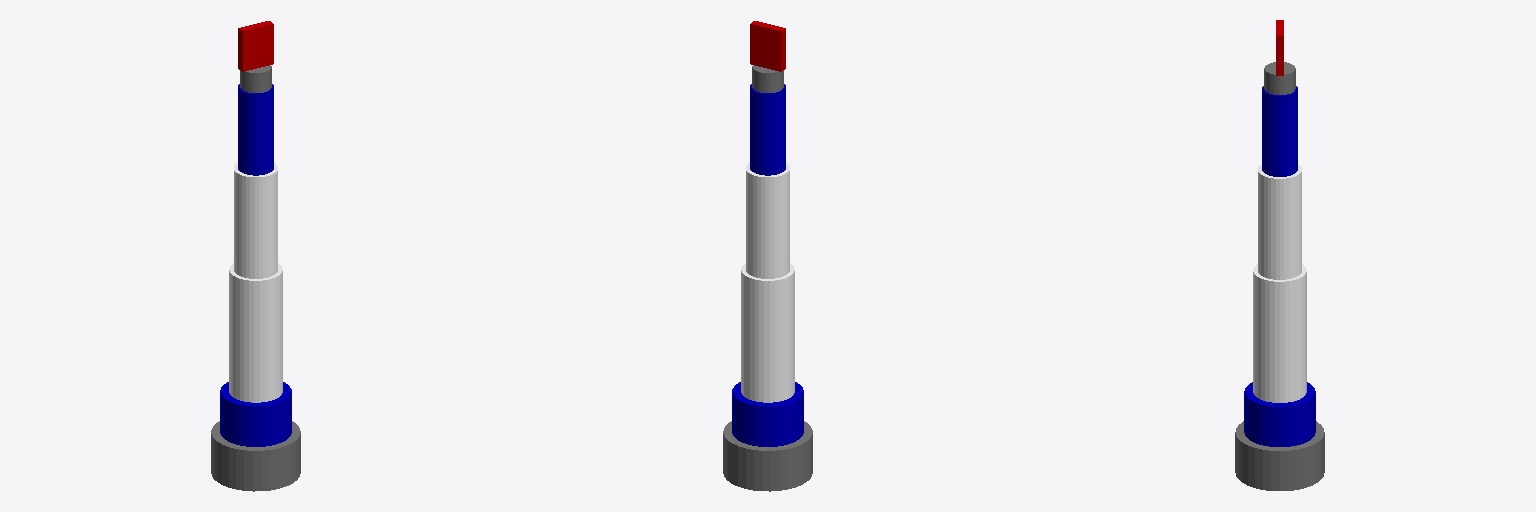
The robot description file, URDF, robot "chess_robot":
<?xml version="1.0"?>
<robot name="chess_robot">
  
  <!-- Materials -->
  <material name="blue">
    <color rgba="0.0 0.0 0.8 1.0"/>
  </material>
  
  <material name="red">
    <color rgba="0.8 0.0 0.0 1.0"/>
  </material>
  
  <material name="white">
    <color rgba="1.0 1.0 1.0 1.0"/>
  </material>
  
  <material name="grey">
    <color rgba="0.5 0.5 0.5 1.0"/>
  </material>
  
  <!-- World link -->
  <link name="world"/>
  
  <!-- Base link -->
  <joint name="world_to_base" type="fixed">
    <parent link="world"/>
    <child link="robot_base"/>
    <origin xyz="0 0 0" rpy="0 0 0"/>
  </joint>
  
  <link name="robot_base">
    <visual>
      <origin xyz="0 0 0.05" rpy="0 0 0"/>
      <geometry>
        <cylinder radius="0.1" length="0.1"/>
      </geometry>
      <material name="grey"/>
    </visual>
    <collision>
      <origin xyz="0 0 0.05" rpy="0 0 0"/>
      <geometry>
        <cylinder radius="0.1" length="0.1"/>
      </geometry>
    </collision>
  </link>
  
  <!-- Shoulder pan joint -->
  <joint name="shoulder_pan_joint" type="revolute">
    <parent link="robot_base"/>
    <child link="shoulder_link"/>
    <origin xyz="0 0 0.1" rpy="0 0 0"/>
    <axis xyz="0 0 1"/>
    <limit lower="-3.14" upper="3.14" effort="100" velocity="1.0"/>
  </joint>
  
  <link name="shoulder_link">
    <visual>
      <origin xyz="0 0 0.05" rpy="0 0 0"/>
      <geometry>
        <cylinder radius="0.08" length="0.1"/>
      </geometry>
      <material name="blue"/>
    </visual>
    <collision>
      <origin xyz="0 0 0.05" rpy="0 0 0"/>
      <geometry>
        <cylinder radius="0.08" length="0.1"/>
      </geometry>
    </collision>
  </link>
  
  <!-- Shoulder lift joint -->
  <joint name="shoulder_lift_joint" type="revolute">
    <parent link="shoulder_link"/>
    <child link="upper_arm_link"/>
    <origin xyz="0 0 0.1" rpy="0 0 0"/>
    <axis xyz="0 1 0"/>
    <limit lower="-3.14" upper="0" effort="100" velocity="1.0"/>
  </joint>
  
  <link name="upper_arm_link">
    <visual>
      <origin xyz="0 0 0.15" rpy="0 0 0"/>
      <geometry>
        <cylinder radius="0.06" length="0.3"/>
      </geometry>
      <material name="white"/>
    </visual>
    <collision>
      <origin xyz="0 0 0.15" rpy="0 0 0"/>
      <geometry>
        <cylinder radius="0.06" length="0.3"/>
      </geometry>
    </collision>
  </link>
  
  <!-- Elbow joint -->
  <joint name="elbow_joint" type="revolute">
    <parent link="upper_arm_link"/>
    <child link="forearm_link"/>
    <origin xyz="0 0 0.3" rpy="0 0 0"/>
    <axis xyz="0 1 0"/>
    <limit lower="-3.14" upper="0" effort="100" velocity="1.0"/>
  </joint>
  
  <link name="forearm_link">
    <visual>
      <origin xyz="0 0 0.125" rpy="0 0 0"/>
      <geometry>
        <cylinder radius="0.05" length="0.25"/>
      </geometry>
      <material name="white"/>
    </visual>
    <collision>
      <origin xyz="0 0 0.125" rpy="0 0 0"/>
      <geometry>
        <cylinder radius="0.05" length="0.25"/>
      </geometry>
    </collision>
  </link>
  
  <!-- Wrist 1 joint -->
  <joint name="wrist_1_joint" type="revolute">
    <parent link="forearm_link"/>
    <child link="wrist_1_link"/>
    <origin xyz="0 0 0.25" rpy="0 0 0"/>
    <axis xyz="0 1 0"/>
    <limit lower="-3.14" upper="3.14" effort="50" velocity="2.0"/>
  </joint>
  
  <link name="wrist_1_link">
    <visual>
      <origin xyz="0 0 0.05" rpy="0 0 0"/>
      <geometry>
        <cylinder radius="0.04" length="0.1"/>
      </geometry>
      <material name="blue"/>
    </visual>
    <collision>
      <origin xyz="0 0 0.05" rpy="0 0 0"/>
      <geometry>
        <cylinder radius="0.04" length="0.1"/>
      </geometry>
    </collision>
  </link>
  
  <!-- Wrist 2 joint -->
  <joint name="wrist_2_joint" type="revolute">
    <parent link="wrist_1_link"/>
    <child link="wrist_2_link"/>
    <origin xyz="0 0 0.1" rpy="0 0 0"/>
    <axis xyz="0 0 1"/>
    <limit lower="-3.14" upper="3.14" effort="50" velocity="2.0"/>
  </joint>
  
  <link name="wrist_2_link">
    <visual>
      <origin xyz="0 0 0.05" rpy="0 0 0"/>
      <geometry>
        <cylinder radius="0.04" length="0.1"/>
      </geometry>
      <material name="blue"/>
    </visual>
    <collision>
      <origin xyz="0 0 0.05" rpy="0 0 0"/>
      <geometry>
        <cylinder radius="0.04" length="0.1"/>
      </geometry>
    </collision>
  </link>
  
  <!-- Wrist 3 joint -->
  <joint name="wrist_3_joint" type="revolute">
    <parent link="wrist_2_link"/>
    <child link="wrist_3_link"/>
    <origin xyz="0 0 0.1" rpy="0 0 0"/>
    <axis xyz="1 0 0"/>
    <limit lower="-3.14" upper="3.14" effort="50" velocity="2.0"/>
  </joint>
  
  <link name="wrist_3_link">
    <visual>
      <origin xyz="0 0 0.025" rpy="0 0 0"/>
      <geometry>
        <cylinder radius="0.035" length="0.05"/>
      </geometry>
      <material name="grey"/>
    </visual>
    <collision>
      <origin xyz="0 0 0.025" rpy="0 0 0"/>
      <geometry>
        <cylinder radius="0.035" length="0.05"/>
      </geometry>
    </collision>
  </link>
  
  <!-- End effector -->
  <joint name="ee_joint" type="fixed">
    <parent link="wrist_3_link"/>
    <child link="ee_link"/>
    <origin xyz="0 0 0.05" rpy="0 0 0"/>
  </joint>
  
  <link name="ee_link">
    <visual>
      <origin xyz="0 0 0.05" rpy="0 0 0"/>
      <geometry>
        <box size="0.08 0.02 0.1"/>
      </geometry>
      <material name="red"/>
    </visual>
    <collision>
      <origin xyz="0 0 0.05" rpy="0 0 0"/>
      <geometry>
        <box size="0.08 0.02 0.1"/>
      </geometry>
    </collision>
  </link>
  
</robot>

--- Facts derived from the render (not from the file) ---
Views: 3 orthographic renders of the robot side by side, from view 1: azimuth 30°, elevation 25°; view 2: azimuth 150°, elevation 25°; view 3: azimuth 270°, elevation 25°.
Robot: chess_robot — 9 links, 8 joints (6 revolute, 2 fixed); root link world; default pose: all joints at 0.
Visible links, largest first — view 1: upper_arm_link, forearm_link, robot_base, shoulder_link, ee_link, wrist_2_link, wrist_1_link, wrist_3_link; view 2: upper_arm_link, forearm_link, robot_base, shoulder_link, ee_link, wrist_2_link, wrist_1_link, wrist_3_link; view 3: upper_arm_link, forearm_link, robot_base, shoulder_link, wrist_2_link, wrist_1_link, wrist_3_link.
Boxes of the visible links, x1=… form: upper_arm_link: x1=229, y1=263, x2=282, y2=402; forearm_link: x1=234, y1=163, x2=277, y2=278; robot_base: x1=211, y1=421, x2=300, y2=491; shoulder_link: x1=220, y1=382, x2=291, y2=446; ee_link: x1=238, y1=21, x2=273, y2=71; wrist_2_link: x1=238, y1=84, x2=273, y2=134; wrist_1_link: x1=238, y1=129, x2=273, y2=175; wrist_3_link: x1=240, y1=65, x2=271, y2=92; upper_arm_link: x1=741, y1=263, x2=794, y2=402; forearm_link: x1=746, y1=163, x2=789, y2=278; robot_base: x1=723, y1=421, x2=812, y2=491; shoulder_link: x1=732, y1=382, x2=803, y2=446; ee_link: x1=750, y1=21, x2=785, y2=71; wrist_2_link: x1=750, y1=84, x2=785, y2=134; wrist_1_link: x1=750, y1=129, x2=785, y2=175; wrist_3_link: x1=752, y1=65, x2=783, y2=92; upper_arm_link: x1=1253, y1=264, x2=1306, y2=402; forearm_link: x1=1258, y1=164, x2=1301, y2=279; robot_base: x1=1235, y1=421, x2=1324, y2=490; shoulder_link: x1=1244, y1=382, x2=1315, y2=446; wrist_2_link: x1=1262, y1=86, x2=1297, y2=136; wrist_1_link: x1=1262, y1=131, x2=1297, y2=176; wrist_3_link: x1=1264, y1=62, x2=1295, y2=94.
Bounding box of the posed robot: 0.2 × 0.2 × 1.1 m (x, y, z).
Geometry: primitives only (box / cylinder / sphere), no mesh files.
